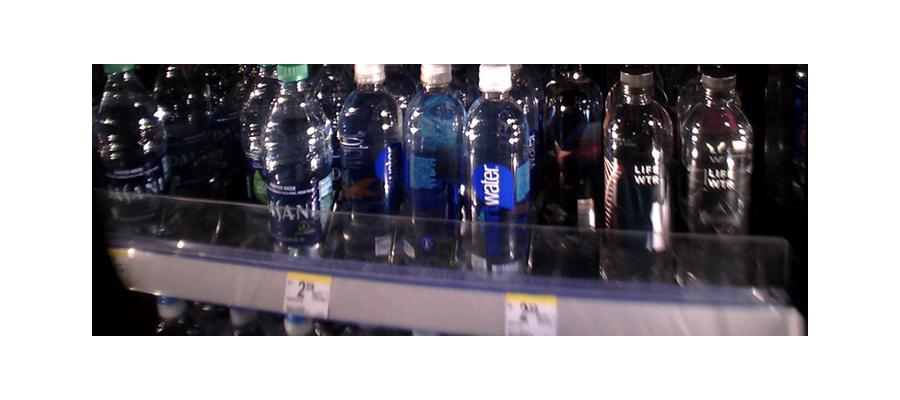bottle: (680, 62, 750, 292), (601, 64, 673, 286), (255, 61, 327, 260), (462, 76, 533, 277), (332, 60, 398, 262), (404, 68, 465, 262), (545, 63, 600, 269), (95, 63, 159, 237)
